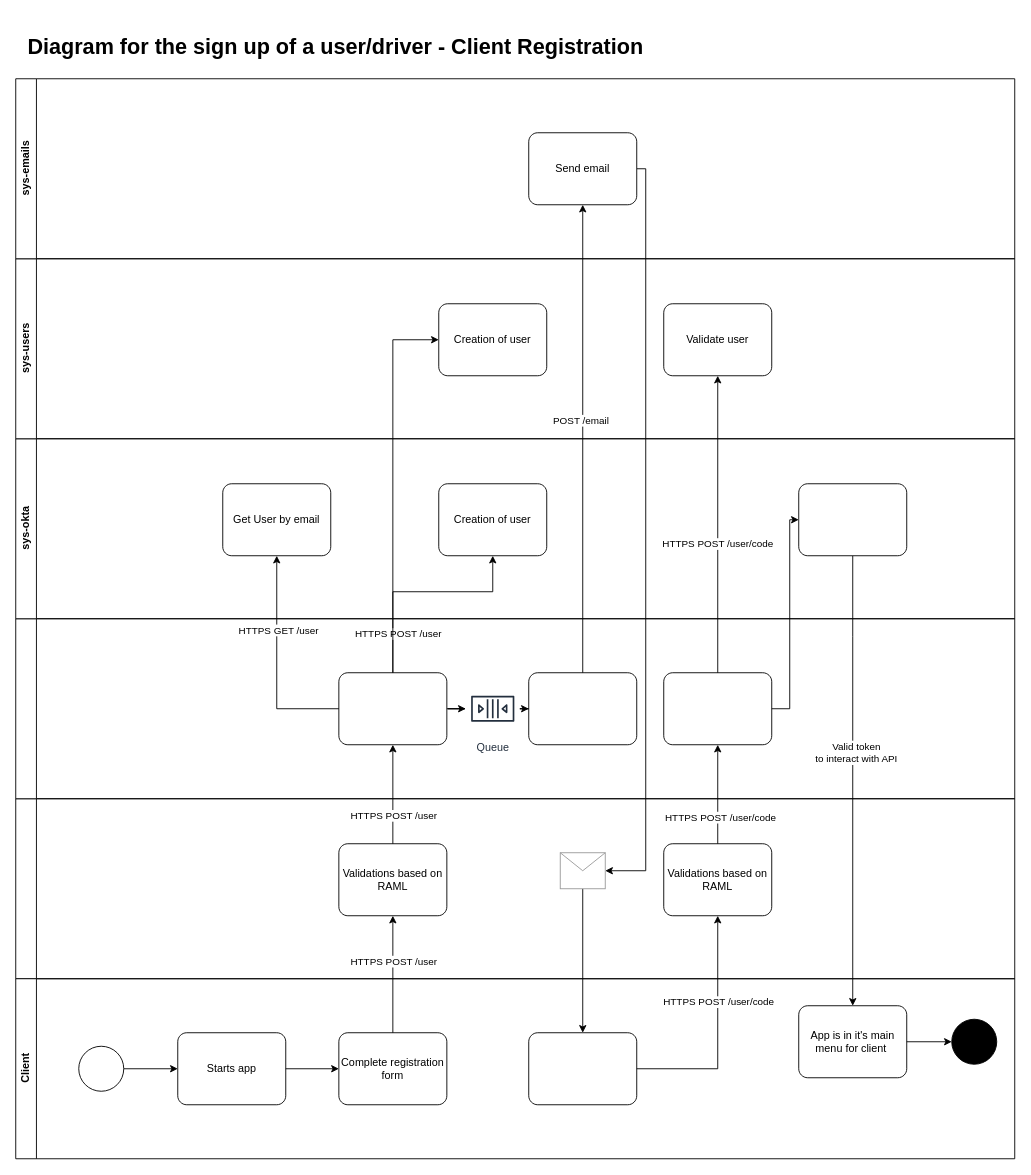
This 1031x1175 diagram has some shape labels left out. The shapes that lost their labels are listed below. From the top down, each one's box as (x1, y1, x2, y2) in pixels, then its label:
(798, 483, 907, 556): Get Valid Tokern
(338, 672, 447, 745): Orchestation
(15, 618, 1015, 799): prc-users
(528, 672, 637, 745): Send Email with validation code
(663, 672, 772, 745): Verify user
(15, 798, 1015, 979): exp-ride-x-press
(528, 1032, 637, 1105): Complete with code
